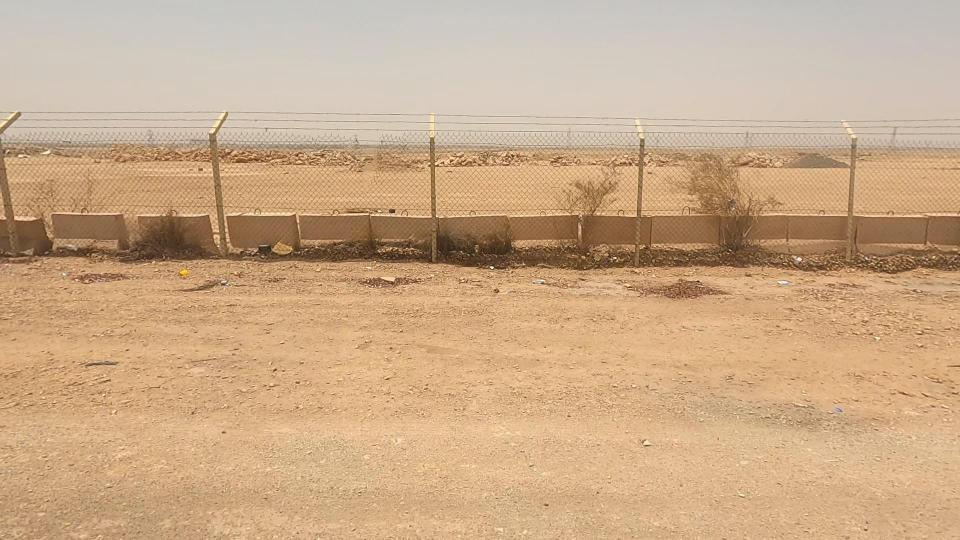GARBAGE: (207, 202, 337, 290), (148, 254, 211, 291)
